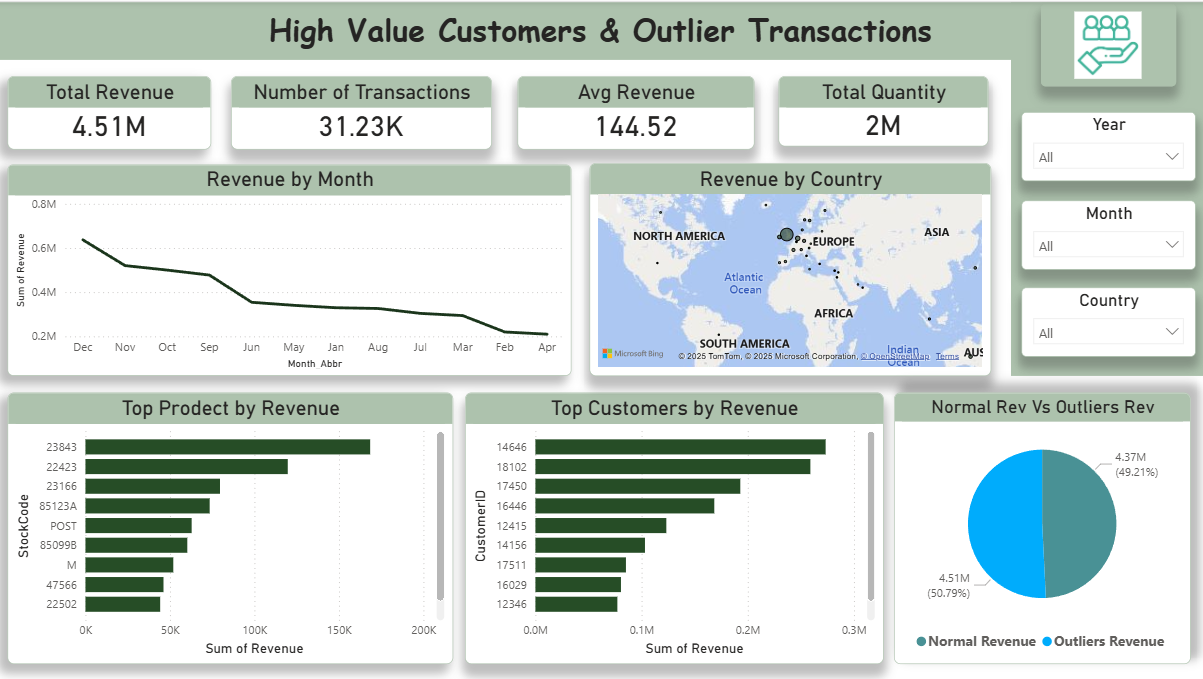

The page's visual inventory and layout, read from the dashboard file:
{"tool":"powerbi","page":{"name":"High Value Customers & Outlier Transactions","canvas":[1280,720],"ordinal":2},"visuals":[{"type":"card","title":"Total Revenue","fields":{"Values":["Sum(Outliers.Revenue)"]},"box":[11.1,79.5,216.3,77.9],"z":0},{"type":"card","title":"Total Quantity","fields":{"Values":["Sum(Outliers.Quantity)"]},"box":[828.7,79.5,222.7,74.8],"z":1000},{"type":"card","title":"Avg Revenue","fields":{"Values":["Avg(Outliers.Revenue)"]},"box":[551.9,79.5,251.3,77.9],"z":2000},{"type":"card","title":"Number of Transactions","fields":{"Values":["CountNonNull(Outliers.InvoiceNo)"]},"box":[248.1,79.5,276.8,77.9],"z":3000},{"type":"barChart","title":"Top Prodect by Revenue","fields":{"Y":["Sum(Outliers.Revenue)"],"Category":["Outliers.StockCode"]},"box":[11.1,415.1,472.4,287.9],"z":4000},{"type":"barChart","title":"Top Customers by Revenue","fields":{"Y":["Sum(Outliers.Revenue)"],"Category":["Outliers.CustomerID"]},"box":[496.3,415.1,443.8,287.9],"z":5000},{"type":"lineChart","title":"Revenue by Month","fields":{"Y":["Sum(Outliers.Revenue)"],"Category":["Outliers.Month_Abbr"]},"box":[11.1,173.4,598.1,224.3],"z":5001},{"type":"map","title":"Revenue by Country","fields":{"Category":["Outliers.Country"],"Size":["Sum(Outliers.Revenue)"]},"box":[628.3,171.8,426.3,225.9],"z":5002},{"type":"pieChart","title":"Normal Rev Vs Outliers Rev","fields":{"Y":["Sum(Clean Data.Revenue)","Sum(Outliers.Revenue)"]},"box":[951.2,415.1,314.9,287.9],"z":5003},{"type":"textbox","box":[0,1.6,1280.4,60.4],"z":5005},{"type":"textbox","box":[1075.3,1.6,205.2,396.1],"z":5006},{"type":"slicer","title":"Year","fields":{"Values":["Outliers.Year"]},"box":[1086.4,117.7,184.5,73.2],"z":5007},{"type":"slicer","title":"Month","fields":{"Values":["Outliers.Month_Abbr"]},"box":[1086.4,211.6,184.5,73.2],"z":5008},{"type":"slicer","title":"Country","fields":{"Values":["Outliers.Country"]},"box":[1086.4,303.8,184.5,73.2],"z":5009},{"type":"image","box":[1107.1,3.2,143.2,87.5],"z":5010}]}

Visuals, with their boxes in screenshot pixels (x1, y1, x2, y2), scaled from the page's 1280x720 canvas onto the 1203x679 screenshot:
"Total Revenue" card: [10, 75, 214, 148]
"Total Quantity" card: [779, 75, 988, 146]
"Avg Revenue" card: [519, 75, 755, 148]
"Number of Transactions" card: [233, 75, 493, 148]
"Top Prodect by Revenue" barChart: [10, 391, 454, 663]
"Top Customers by Revenue" barChart: [466, 391, 884, 663]
"Revenue by Month" lineChart: [10, 164, 573, 375]
"Revenue by Country" map: [591, 162, 991, 375]
"Normal Rev Vs Outliers Rev" pieChart: [894, 391, 1190, 663]
textbox: [0, 2, 1202, 58]
textbox: [1011, 2, 1202, 375]
"Year" slicer: [1021, 111, 1194, 180]
"Month" slicer: [1021, 200, 1194, 269]
"Country" slicer: [1021, 287, 1194, 356]
image: [1041, 3, 1175, 86]
